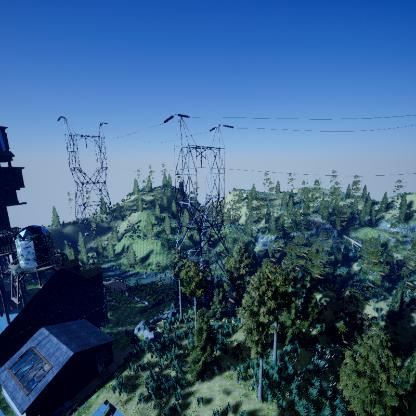tower: (160, 112, 235, 270), (53, 114, 117, 240)
